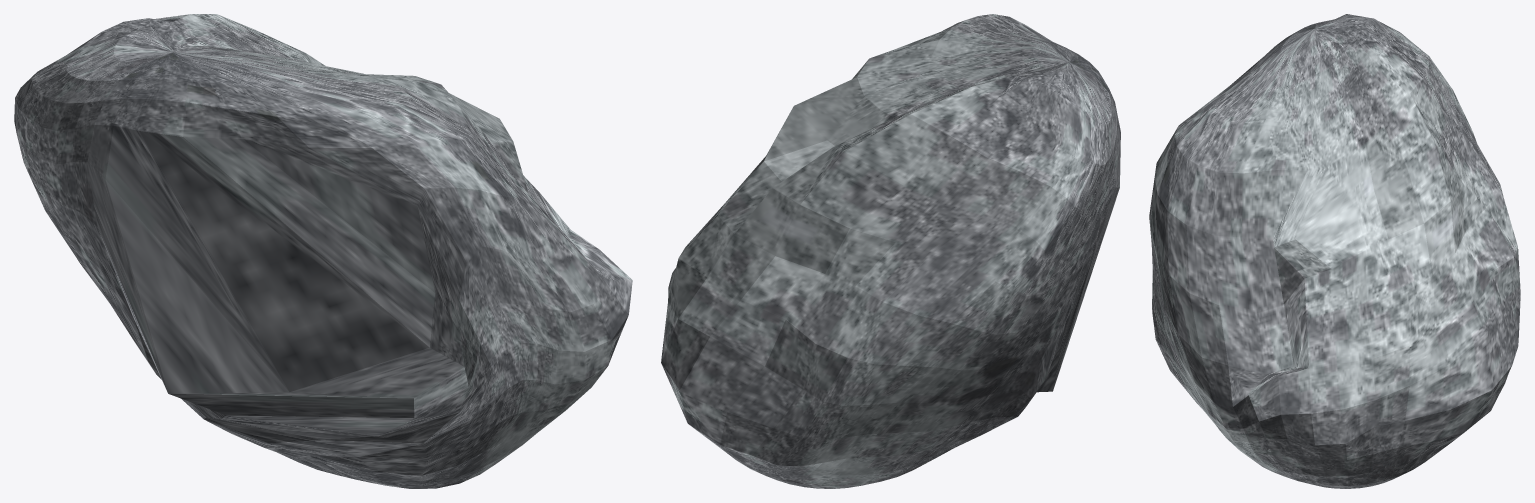
Rendered from rock1.glb.
3 views of the same model, side by side, from view 1: azimuth 30°, elevation 25°; view 2: azimuth 150°, elevation 25°; view 3: azimuth 270°, elevation 25° (orthographic). The views are drawn at different scales.
Parts seen in each view (by area): view 1: Sphere; view 2: Sphere; view 3: Sphere.
Boxes of the visible parts, <box> form: Sphere: <box>14,14,632,488</box>; Sphere: <box>661,14,1120,488</box>; Sphere: <box>1149,14,1520,488</box>.
Size of the model in its own units: 14.13 by 13.18 by 12.2.
Materials: 1 (1 with a texture image).
